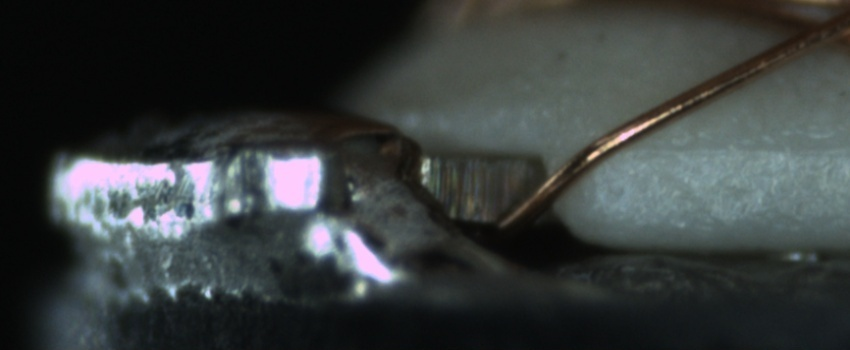CL: (774, 4, 848, 58)
DL: (611, 117, 849, 181)
